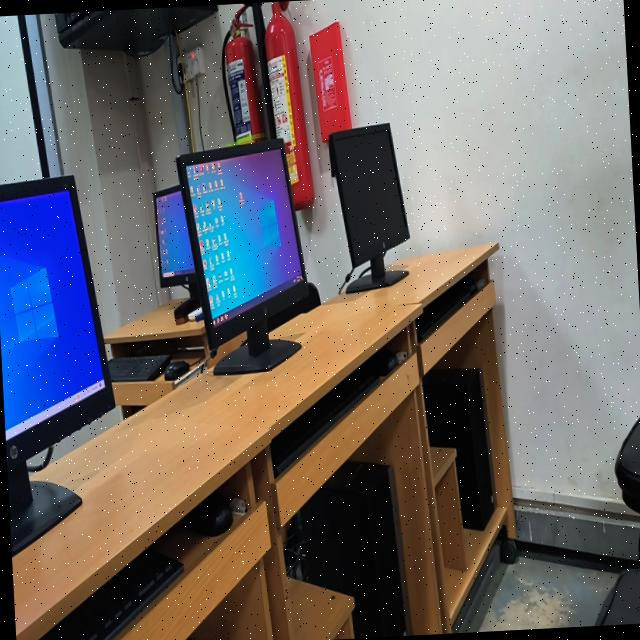Chair: (594, 568, 640, 626), (615, 417, 640, 514)
Cpu: (298, 462, 408, 639), (423, 369, 494, 530)
Fire Extinguisher: (265, 1, 314, 208), (225, 35, 265, 139)
Keyboard: (271, 358, 381, 478), (39, 549, 183, 640), (417, 274, 487, 341), (109, 354, 171, 382)
Monitor: (0, 177, 115, 556), (177, 139, 309, 375), (329, 123, 409, 293), (154, 186, 198, 299)
Mouse: (184, 491, 233, 536), (364, 348, 400, 376), (164, 361, 189, 380)
